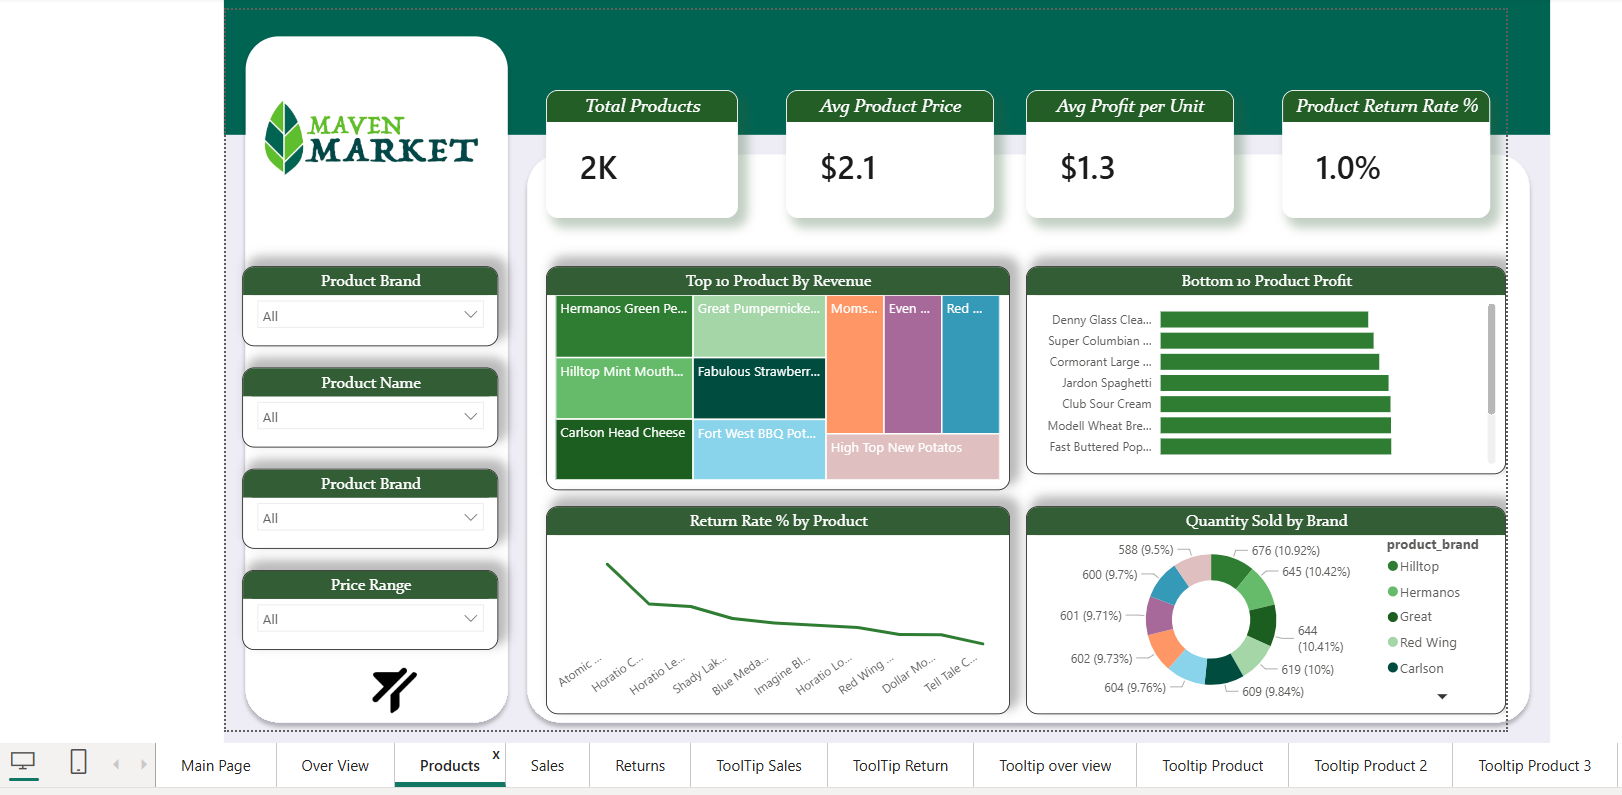

The page's visual inventory and layout, read from the dashboard file:
{"tool":"powerbi","page":{"name":"Products","canvas":[1280,720],"ordinal":2},"visuals":[{"type":"image","box":[32,48,224,160],"z":0},{"type":"cardVisual","title":"Avg Product Price","fields":{"Data":["_Measure.Avg Product Price"]},"box":[560,80,208,128],"z":1000},{"type":"cardVisual","title":"Avg Profit per Unit","fields":{"Data":["_Measure.Avg Profit per Unit"]},"box":[800,80,208,128],"z":2000},{"type":"cardVisual","title":"Product Return Rate %","fields":{"Data":["_Measure.Product Return Rate %"]},"box":[1056,80,208,128],"z":3000},{"type":"treemap","title":"Top 10 Product By Revenue","fields":{"Group":["Dim_Products.product_name"],"Values":["_Measure.Total Revenue"]},"box":[320,256,464,224],"z":4000},{"type":"clusteredBarChart","title":"Bottom 10 Product Profit","fields":{"Category":["Dim_Products.product_name"],"Y":["_Measure.Total Profit"]},"box":[800,256,480,208],"z":5000},{"type":"lineChart","title":"Return Rate % by Product","fields":{"Category":["Dim_Products.product_name"],"Y":["_Measure.Return Rate % (Transactions)"]},"box":[320,496,464,208],"z":6000},{"type":"donutChart","title":"Quantity Sold by Brand","fields":{"Category":["Dim_Products.product_brand"],"Y":["_Measure.Quantity Sold"]},"box":[800,496,480,208],"z":7000},{"type":"slicer","title":"Product Brand","fields":{"Values":["Dim_Products.product_brand"]},"box":[16,256,256,80],"z":8000},{"type":"slicer","title":"Product Name","fields":{"Values":["Dim_Products.product_name"]},"box":[16,357.3,256,80],"z":9000},{"type":"image","box":[128,656,80,48],"z":10000},{"type":"slicer","title":"Product Brand","fields":{"Values":["Dim_Products.product_brand"]},"box":[16,458.7,256,80],"z":11000},{"type":"slicer","title":"Price Range","fields":{"Values":["Dim_Products.product_retail_price"]},"box":[16,560,256,80],"z":12000},{"type":"cardVisual","title":"Total Products","fields":{"Data":["_Measure.Total Products"]},"box":[320,80,192,128],"z":13000}]}

Visuals, with their boxes on the page's 1280x720 design canvas (x1, y1, x2, y2). These are canvas units, not pixel positions in the 1622x795 screenshot, which may show the page scaled, cropped or inside an application window:
image: Rect(32, 48, 256, 208)
"Avg Product Price" cardVisual: Rect(560, 80, 768, 208)
"Avg Profit per Unit" cardVisual: Rect(800, 80, 1008, 208)
"Product Return Rate %" cardVisual: Rect(1056, 80, 1264, 208)
"Top 10 Product By Revenue" treemap: Rect(320, 256, 784, 480)
"Bottom 10 Product Profit" clusteredBarChart: Rect(800, 256, 1280, 464)
"Return Rate % by Product" lineChart: Rect(320, 496, 784, 704)
"Quantity Sold by Brand" donutChart: Rect(800, 496, 1280, 704)
"Product Brand" slicer: Rect(16, 256, 272, 336)
"Product Name" slicer: Rect(16, 357, 272, 437)
image: Rect(128, 656, 208, 704)
"Product Brand" slicer: Rect(16, 459, 272, 539)
"Price Range" slicer: Rect(16, 560, 272, 640)
"Total Products" cardVisual: Rect(320, 80, 512, 208)
